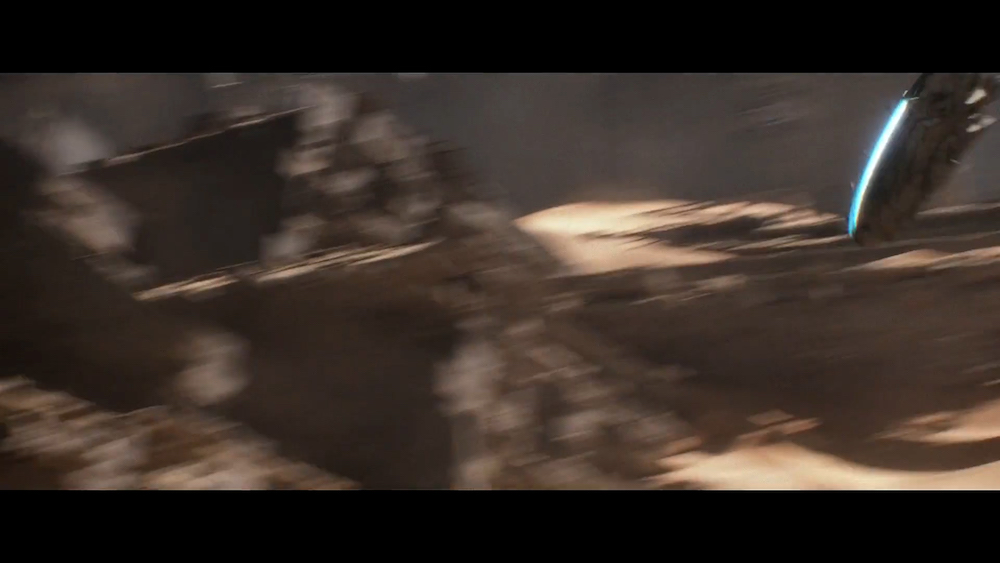Millennium Falcon: (845, 79, 1000, 254)
